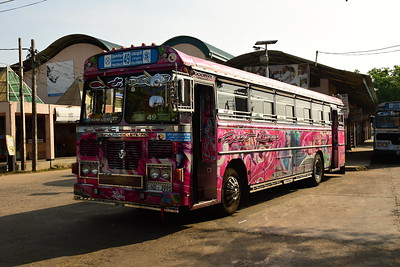bus: (73, 44, 346, 214), (373, 101, 400, 156)
